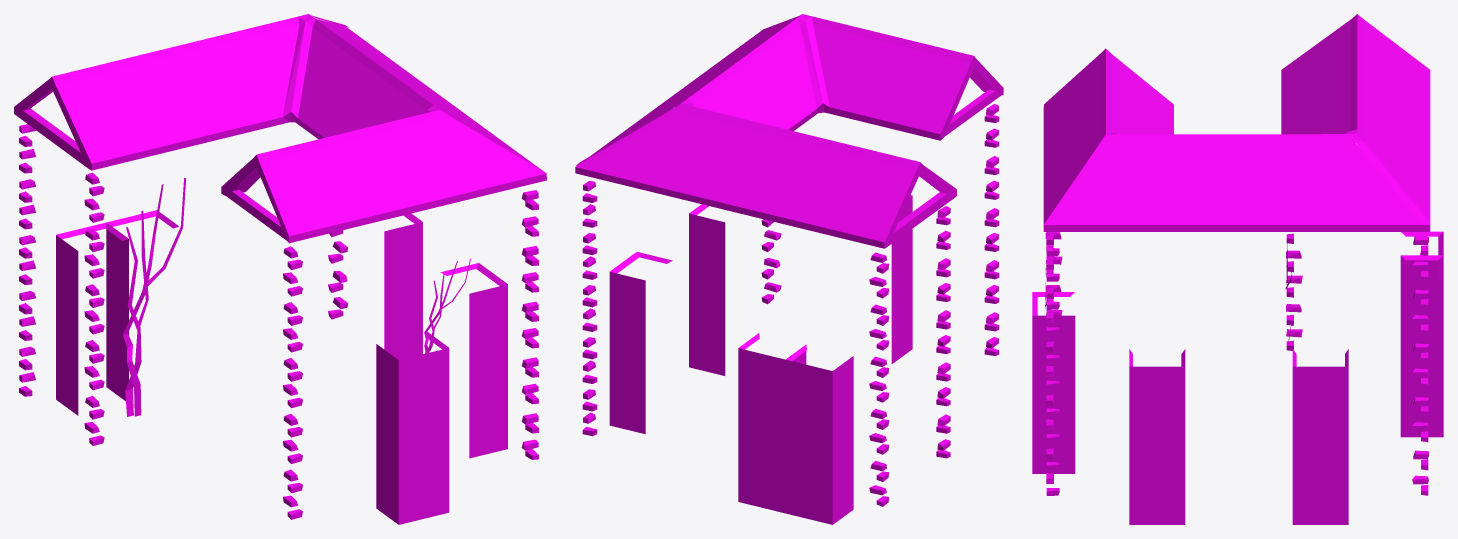
Rendered from hele_house_c.glb.
3 renders of one model, left to right at view 1: azimuth 30°, elevation 25°; view 2: azimuth 150°, elevation 25°; view 3: azimuth 270°, elevation 25°, orthographic. The views are drawn at different scales.
Visible parts, largest first — view 1: hele_house_courtyard01Mesh_003-mesh; view 2: hele_house_courtyard01Mesh_003-mesh; view 3: hele_house_courtyard01Mesh_003-mesh.
Boxes of the visible parts, x1,y1,x2,y2 form: hele_house_courtyard01Mesh_003-mesh: (14,14,546,524); hele_house_courtyard01Mesh_003-mesh: (575,14,1003,524); hele_house_courtyard01Mesh_003-mesh: (1032,14,1443,524).
Size of the model in its own units: 13.73 by 14.32 by 15.11.
